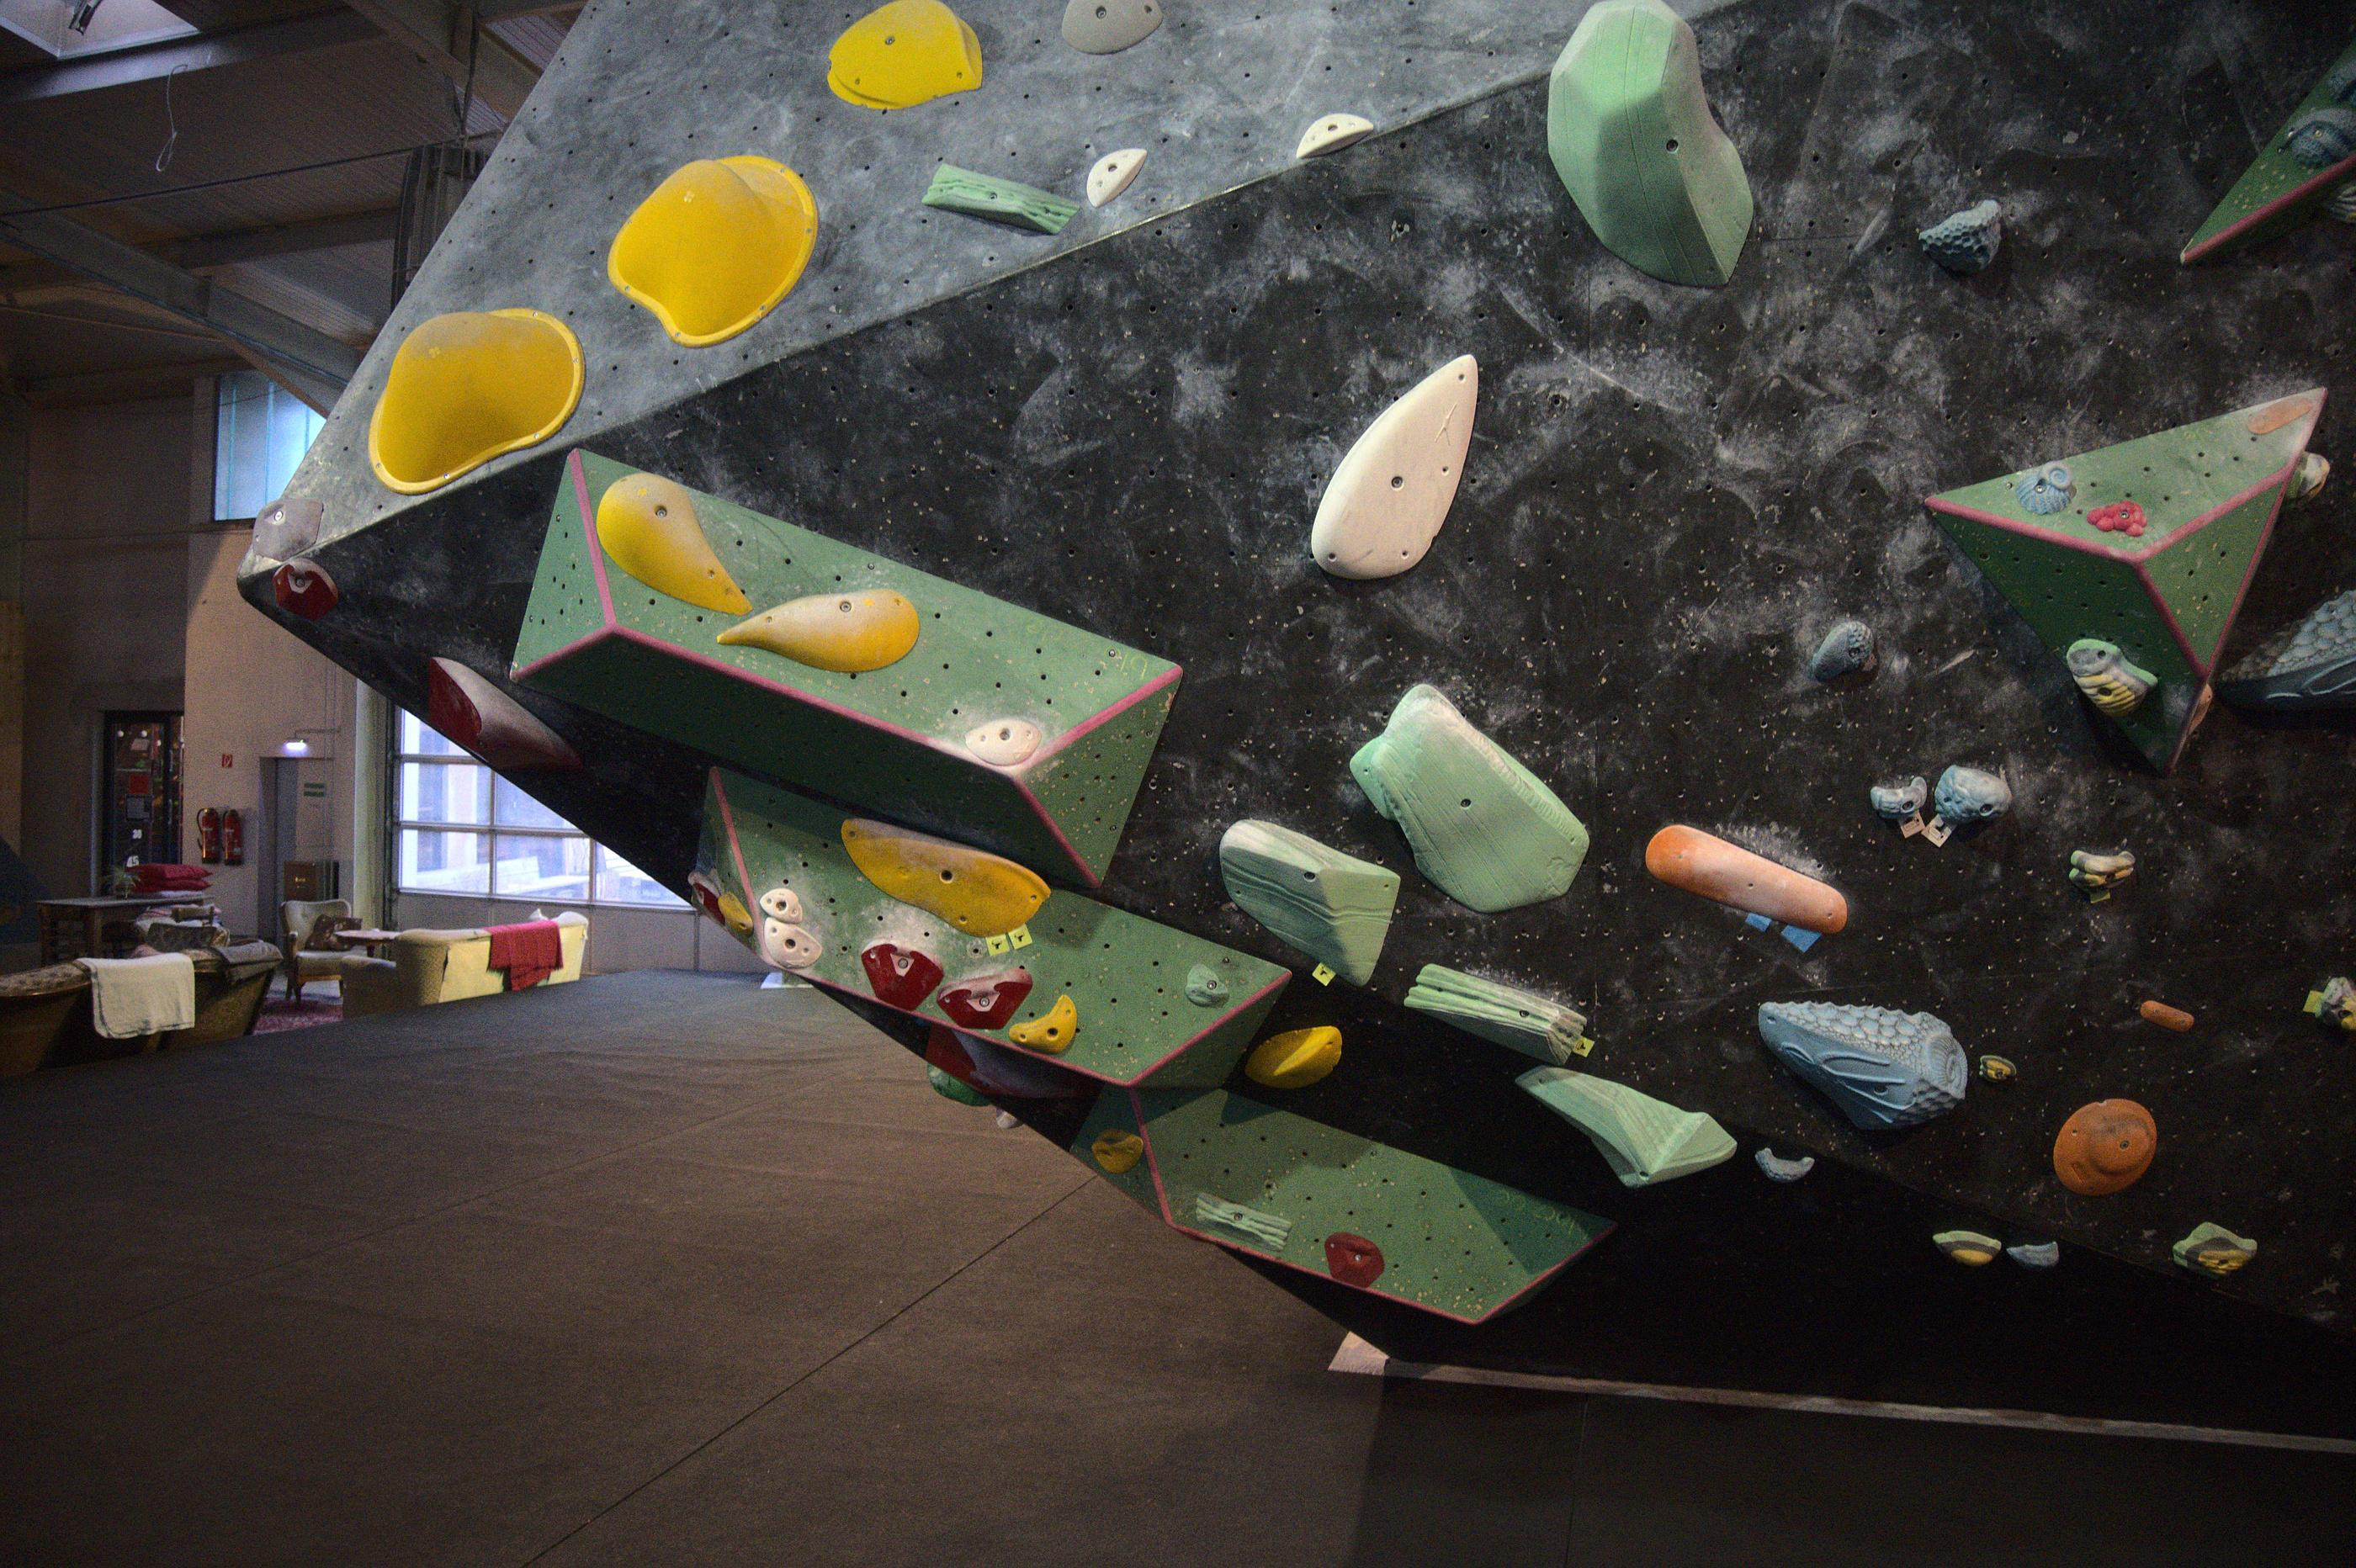Climbing-Holds: (1325, 675, 1610, 950), (588, 110, 851, 374), (327, 268, 609, 507), (1297, 324, 1504, 604), (1495, 1052, 1743, 1214), (1189, 808, 1409, 987), (823, 794, 1055, 957), (578, 455, 753, 658), (1749, 994, 1974, 1139), (1637, 812, 1857, 957), (399, 644, 586, 812), (712, 579, 926, 695), (1402, 948, 1593, 1074), (915, 1018, 1099, 1129), (2218, 588, 2356, 721), (2043, 1090, 2167, 1202), (921, 159, 1082, 245), (2051, 623, 2158, 724), (845, 924, 949, 1020), (1915, 194, 2020, 287), (1238, 1018, 1351, 1099), (1005, 983, 1092, 1073), (1924, 752, 2015, 833), (2167, 1211, 2260, 1288), (935, 966, 1036, 1034), (1071, 131, 1153, 213), (1187, 1190, 1294, 1253), (1287, 101, 1378, 161), (1061, 0, 1160, 54), (1805, 618, 1878, 684), (2009, 457, 2081, 521), (1318, 1228, 1390, 1291), (963, 716, 1045, 770), (271, 556, 338, 623), (1085, 1116, 1152, 1183), (753, 915, 826, 975), (2242, 383, 2319, 437), (919, 1062, 991, 1118), (2275, 446, 2335, 513), (1929, 1223, 2004, 1272), (2067, 849, 2134, 903), (2085, 492, 2151, 539), (1869, 775, 1931, 822), (1750, 1144, 1815, 1188), (683, 868, 732, 926), (709, 889, 761, 940), (2135, 996, 2198, 1036), (1183, 962, 1229, 1008), (2004, 1237, 2062, 1272), (758, 885, 803, 924), (1973, 1050, 2018, 1088), (2326, 178, 2356, 224), (989, 1106, 1026, 1139)
